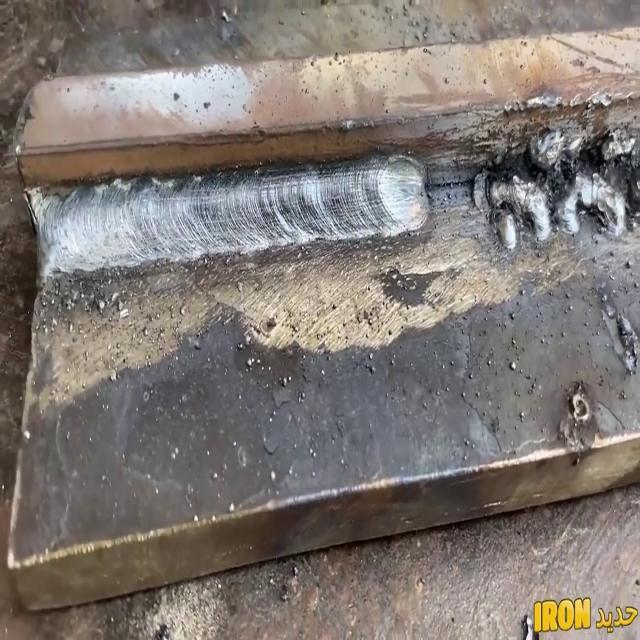Bad Welding: (474, 129, 640, 249)
Good Welding: (32, 156, 429, 282)
